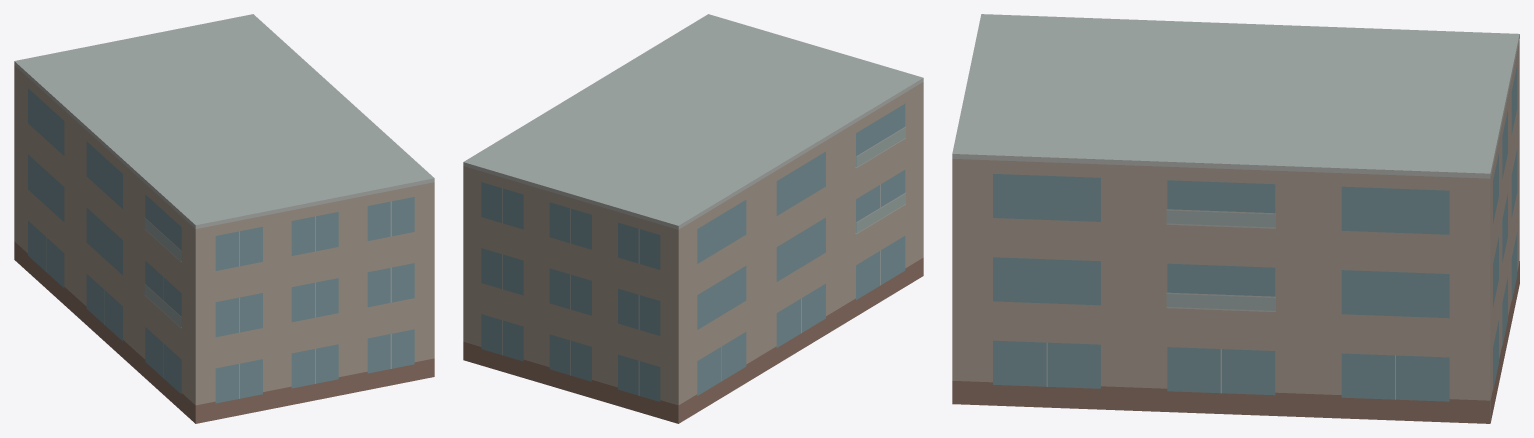
File: survey-upis-32832330.glb
3 views of the same model, side by side, from view 1: azimuth 30°, elevation 25°; view 2: azimuth 150°, elevation 25°; view 3: azimuth 270°, elevation 25° (orthographic). The views are drawn at different scales.
Visible parts, largest first — view 1: survey-upis-32832330.tmp; view 2: survey-upis-32832330.tmp; view 3: survey-upis-32832330.tmp.
Part boxes in pixels (x1=…): survey-upis-32832330.tmp: x1=14, y1=14, x2=434, y2=423; survey-upis-32832330.tmp: x1=463, y1=14, x2=923, y2=423; survey-upis-32832330.tmp: x1=952, y1=14, x2=1519, y2=423.
Size of the model in its own units: 16.98 by 12.4 by 25.5.
